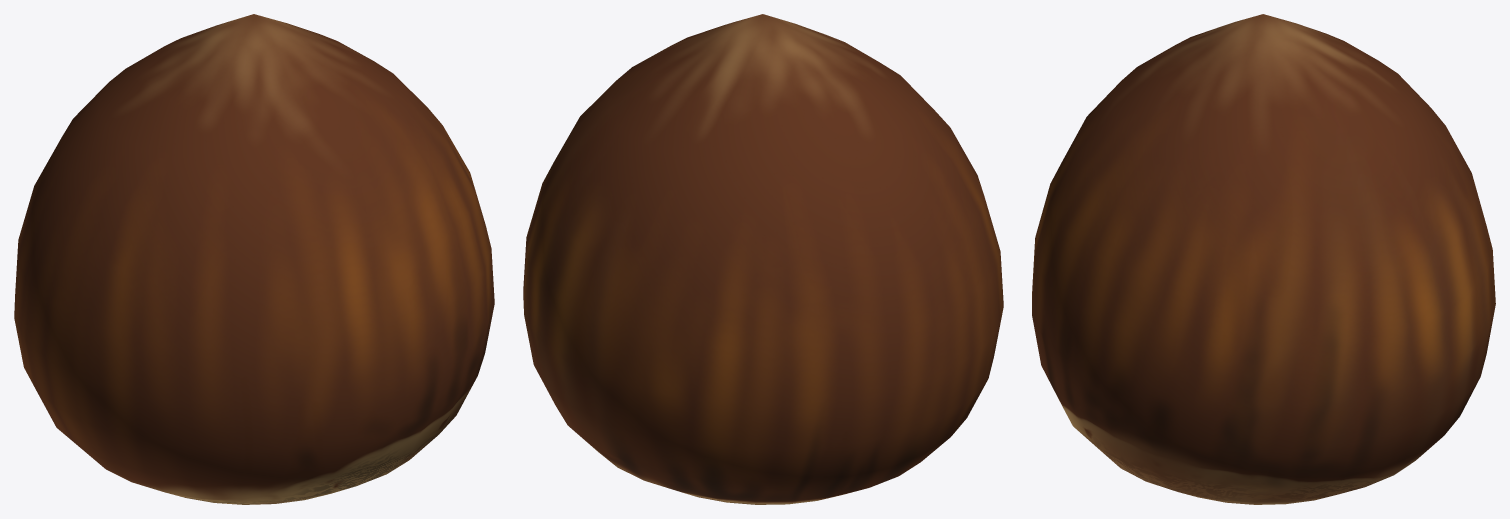
The model's file is Haselnussinuss.FBX.
3 views of the same model, side by side, from view 1: azimuth 30°, elevation 25°; view 2: azimuth 150°, elevation 25°; view 3: azimuth 270°, elevation 25° (orthographic).
Parts seen in each view (by area): view 1: Sphere001; view 2: Sphere001; view 3: Sphere001.
Boxes of the visible parts, bbox=[...] form: Sphere001: bbox=[14, 14, 494, 504]; Sphere001: bbox=[523, 14, 1003, 504]; Sphere001: bbox=[1032, 14, 1495, 504].
Size of the model in its own units: 233 by 224 by 241.
